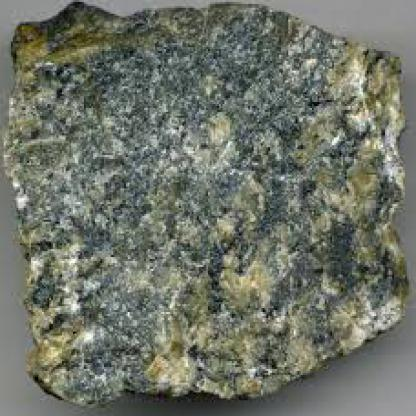Igneous_Diorite: (3, 0, 411, 401)
